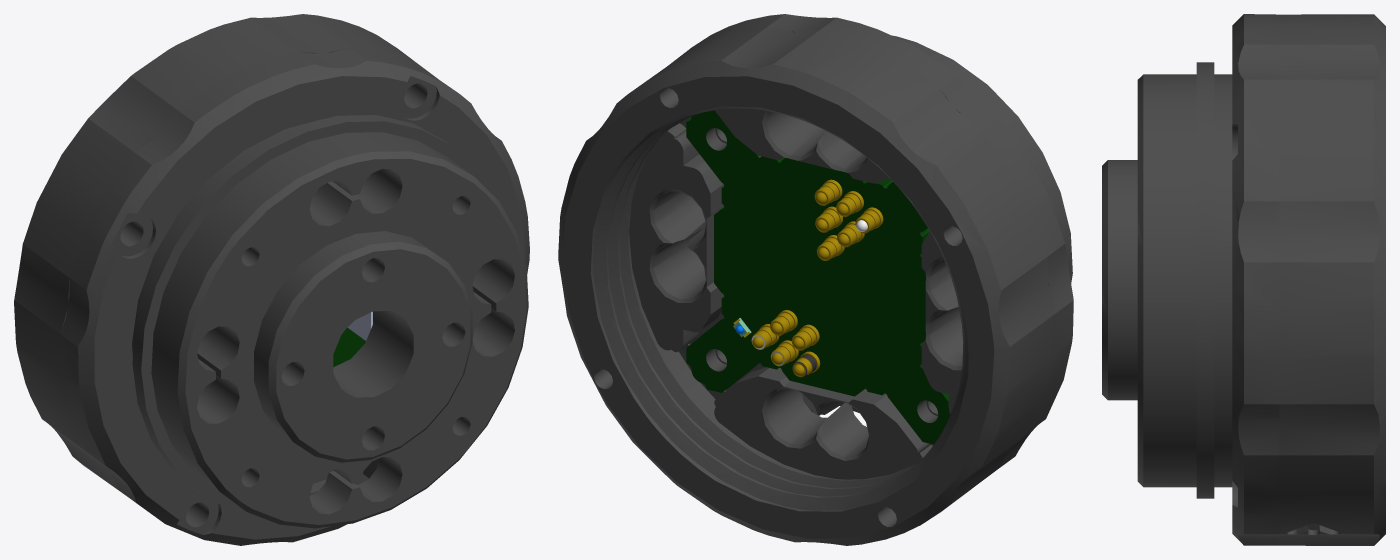
3 renders of one model, left to right at view 1: azimuth 30°, elevation 25°; view 2: azimuth 150°, elevation 25°; view 3: azimuth 270°, elevation 25°, orthographic.
Visible parts, largest first — view 1: node14, node15, node13, node0; view 2: node13, node14, node0, node15, node6, node4; view 3: node13, node14, node15.
Part boxes in pixels (left/top/right/bottom): node14: left=132, top=115, right=528, bottom=528; node15: left=60, top=48, right=529, bottom=545; node13: left=14, top=14, right=437, bottom=491; node0: left=333, top=327, right=365, bottom=367; node13: left=558, top=26, right=1056, bottom=545; node14: left=629, top=35, right=1072, bottom=479; node0: left=686, top=110, right=950, bottom=444; node15: left=671, top=14, right=1073, bottom=468; node6: left=751, top=179, right=883, bottom=377; node4: left=706, top=128, right=937, bottom=422; node13: left=1279, top=14, right=1385, bottom=545; node14: left=1102, top=62, right=1232, bottom=498; node15: left=1232, top=14, right=1279, bottom=545.
Bounding box in the file's own units: 0.045 × 0.0449 × 0.024.
